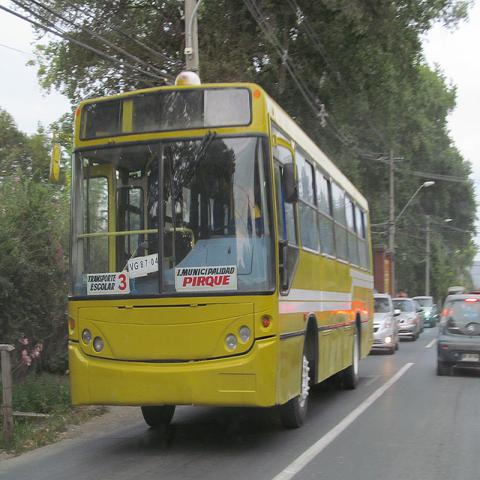bus: (48, 71, 373, 433)
car: (437, 293, 479, 377), (372, 293, 400, 355), (392, 298, 420, 342), (413, 296, 439, 327), (414, 300, 430, 333)
